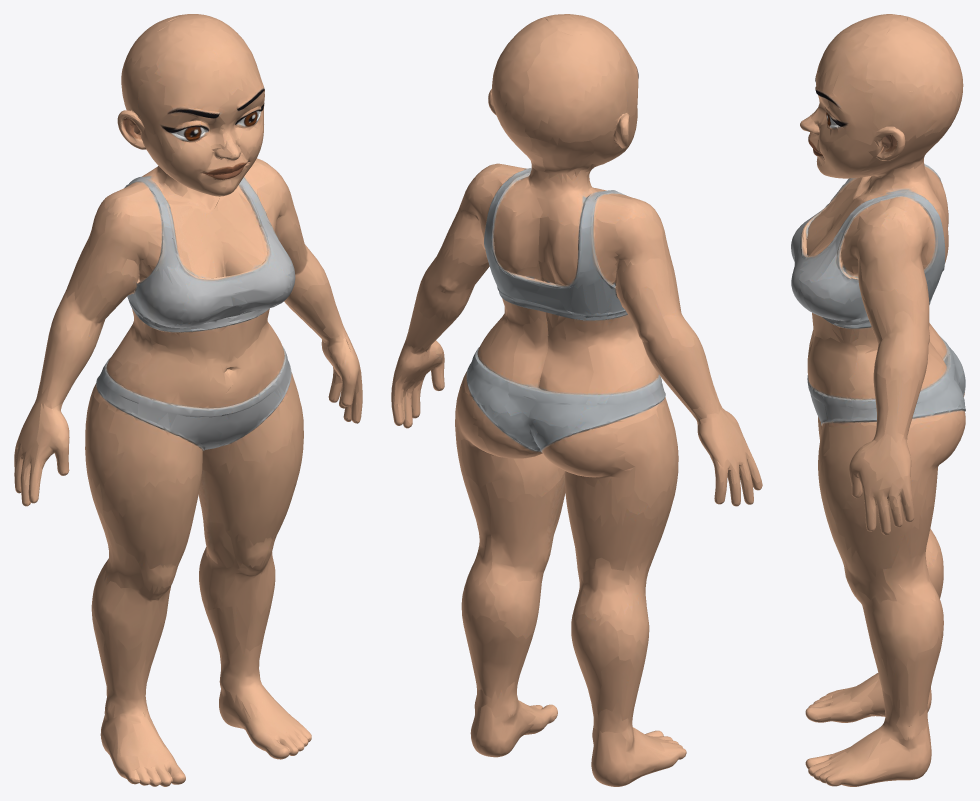
Rendered from body_female_plus.glb.
3 views of the same model, side by side, from view 1: azimuth 30°, elevation 25°; view 2: azimuth 150°, elevation 25°; view 3: azimuth 270°, elevation 25° (orthographic). The views are drawn at different scales.
Visible parts, largest first — view 1: body_plus; view 2: body_plus; view 3: body_plus.
Boxes of the visible parts, x1,y1,x2,y2 form: body_plus: (14,14,362,786); body_plus: (391,14,762,786); body_plus: (791,14,965,786).
Size of the model in its own units: 0.8344 by 1.7 by 0.3707.
1 material, 1 textured.
